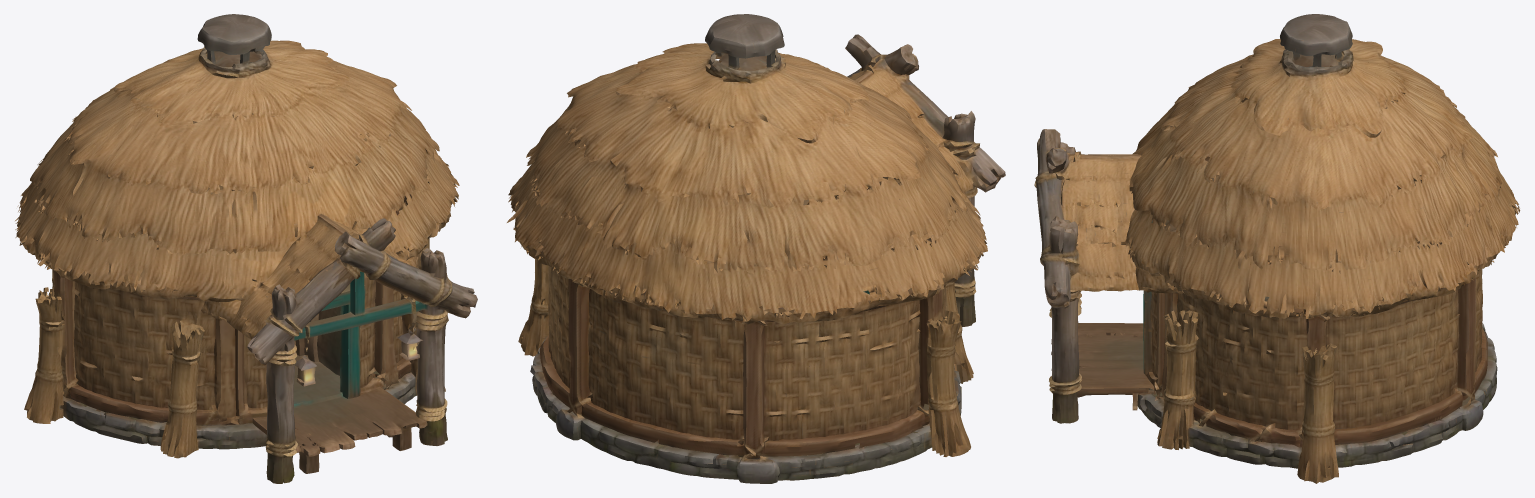
Rendered from tidewake_woven_reed_hall.glb.
3 views of the same model, side by side, from view 1: azimuth 30°, elevation 25°; view 2: azimuth 150°, elevation 25°; view 3: azimuth 270°, elevation 25° (orthographic). The views are drawn at different scales.
Visible parts, largest first — view 1: Mesh_0; view 2: Mesh_0; view 3: Mesh_0.
Boxes of the visible parts, x1,y1,x2,y2 form: Mesh_0: (15,14,477,483); Mesh_0: (507,14,1005,483); Mesh_0: (1034,14,1520,483).
Size of the model in its own units: 1.9 by 1.52 by 1.87.
1 material, 1 textured.
